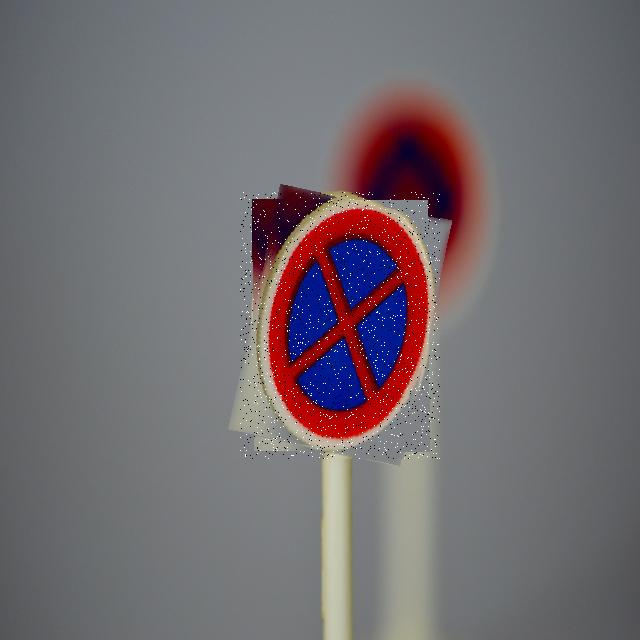no stopping: (240, 192, 440, 459)
